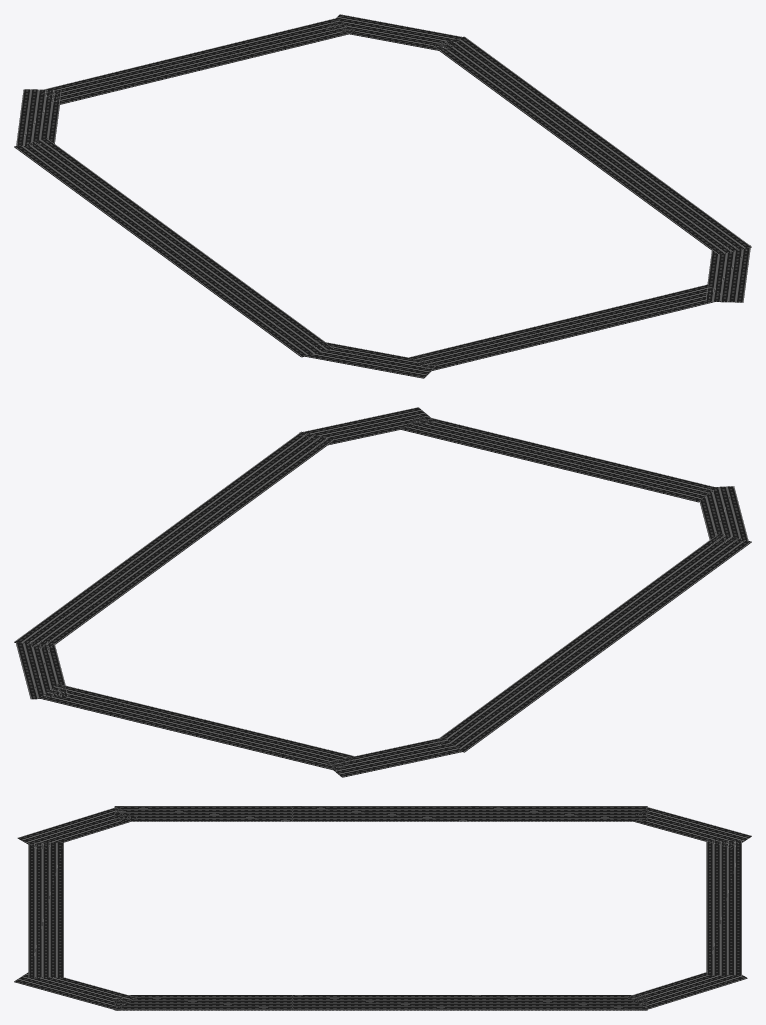
The model's file is Course.fbx.
3 renders of one model, top to bottom at view 1: azimuth 30°, elevation 25°; view 2: azimuth 150°, elevation 25°; view 3: azimuth 270°, elevation 25°, orthographic. The views are drawn at different scales.
Parts seen in each view (by area): view 1: Box007, Box008, Box005, Box001, Box003, Box004, Box002, Box006, Box011, Box010, Box012, Box009; view 2: Box008, Box007, Box001, Box005, Box003, Box004, Box006, Box002, Box010, Box009, Box011, Box012; view 3: Box008, Box007, Box001, Box005, Box003, Box006, Box002, Box004, Box010, Box009, Box012, Box011.
Part boxes in pixels (x1,y1,x2,y2): Box007: [39, 18, 355, 104]; Box008: [409, 284, 723, 370]; Box005: [527, 106, 655, 185]; Box001: [110, 208, 238, 286]; Box003: [205, 278, 333, 357]; Box004: [623, 177, 751, 254]; Box002: [14, 138, 142, 216]; Box006: [432, 36, 559, 114]; Box011: [325, 14, 462, 51]; Box010: [16, 89, 61, 146]; Box012: [304, 340, 438, 378]; Box009: [705, 245, 750, 302]; Box008: [400, 415, 717, 502]; Box007: [39, 684, 354, 770]; Box001: [527, 603, 655, 682]; Box005: [110, 502, 238, 580]; Box003: [623, 533, 751, 611]; Box004: [206, 431, 333, 510]; Box006: [14, 572, 142, 649]; Box002: [436, 673, 560, 752]; Box010: [325, 737, 461, 777]; Box009: [299, 407, 434, 446]; Box011: [16, 641, 68, 699]; Box012: [697, 486, 748, 543]; Box008: [28, 842, 63, 977]; Box007: [706, 840, 741, 975]; Box001: [292, 806, 469, 821]; Box005: [292, 995, 469, 1010]; Box003: [114, 806, 292, 821]; Box006: [470, 995, 647, 1010]; Box002: [470, 806, 647, 821]; Box004: [114, 995, 292, 1010]; Box010: [633, 807, 751, 848]; Box009: [14, 972, 136, 1010]; Box012: [17, 807, 136, 849]; Box011: [627, 972, 747, 1009].
Bounding box in the file's own units: 13601 × 20776 × 20.
Materials: 1 (1 with a texture image).
